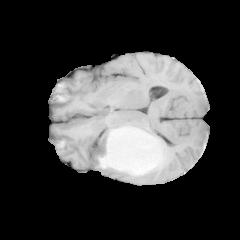glioma: (86, 111, 173, 183)
